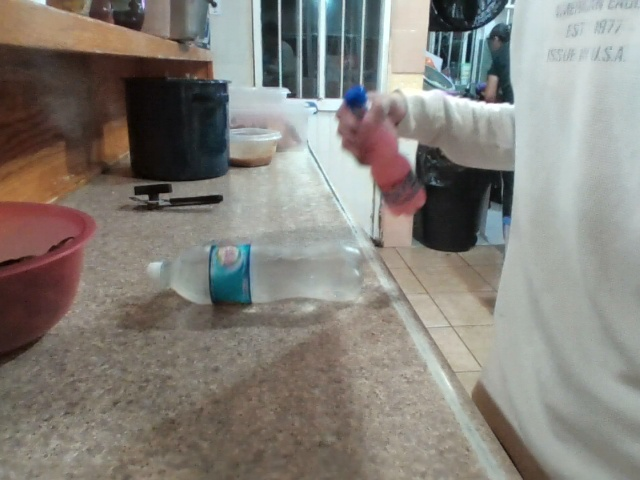botella: (125, 231, 404, 324), (324, 97, 452, 219)
